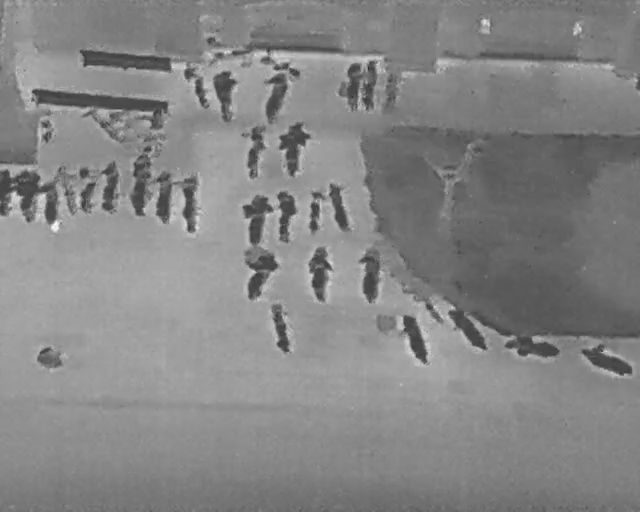Bicycle: (437, 298, 497, 357), (231, 244, 284, 307), (577, 335, 639, 382), (395, 307, 435, 369), (273, 118, 313, 179), (237, 190, 274, 249), (258, 64, 293, 126), (235, 120, 269, 182), (125, 151, 156, 218), (303, 244, 336, 304), (503, 332, 564, 364), (210, 62, 240, 124), (175, 170, 203, 234), (325, 179, 355, 236), (52, 162, 82, 218), (13, 168, 41, 225), (355, 245, 382, 304), (266, 297, 293, 356), (273, 188, 300, 244), (150, 166, 175, 225), (98, 156, 123, 214), (340, 58, 364, 113), (74, 163, 98, 216), (40, 176, 61, 231), (360, 59, 381, 113), (305, 188, 327, 233), (190, 70, 211, 111), (0, 166, 14, 218)
